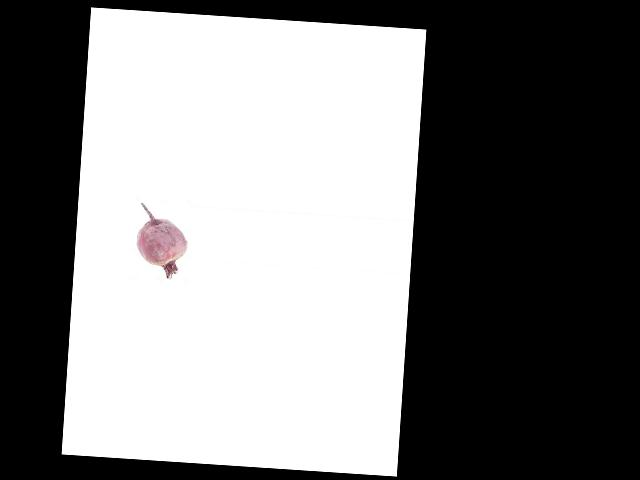beet: (133, 202, 189, 280)
